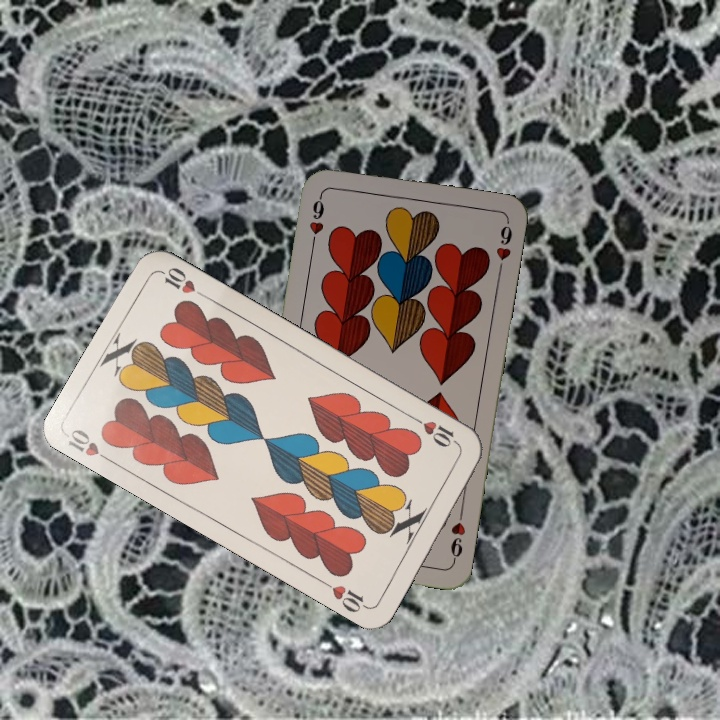H10: (63, 425, 117, 467), (409, 413, 463, 450)
H9: (446, 506, 468, 565), (305, 190, 327, 249)
